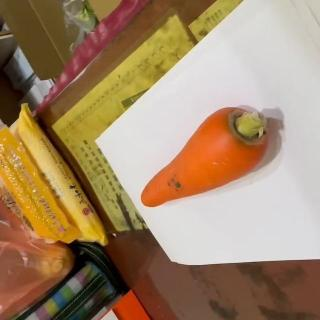carrot: (140, 106, 270, 210)
